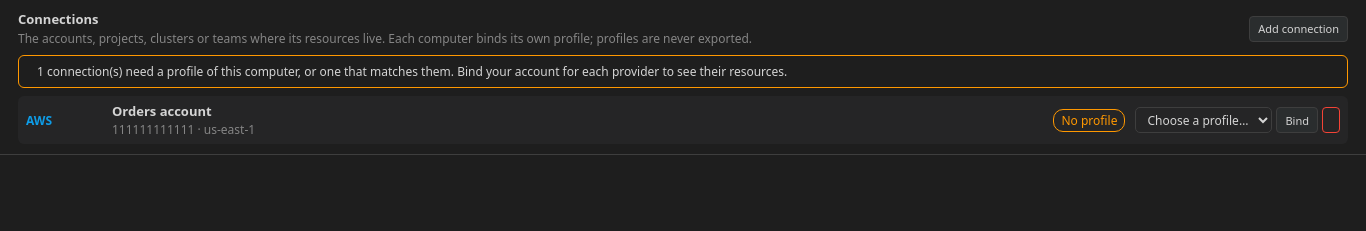
it: KUApp scopes › sends the revision it read and reloads on a conflict
Click the button "Add connection": click(1299, 28) [1249,16,1348,42]
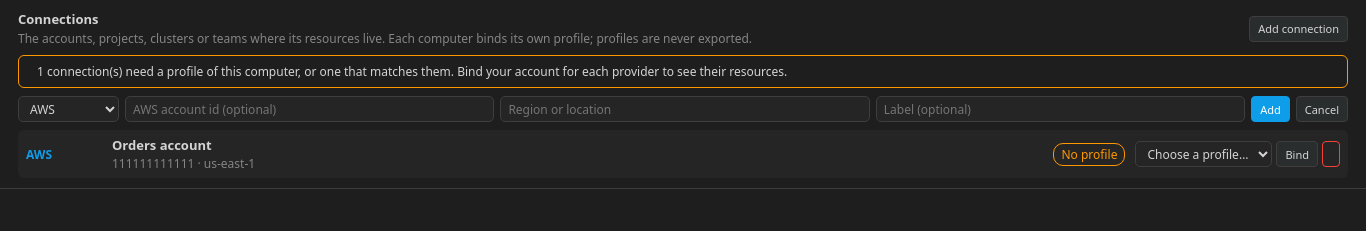
Select "Kubernetes" in the dropdown named "Provider": (68, 109) [18,96,119,122]
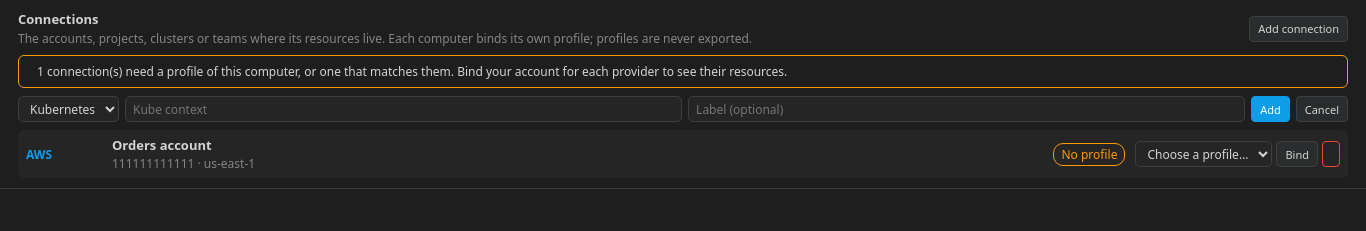
In the field with placeholder "Kube context": (404, 109) [125,96,682,122], type "eks-prod"
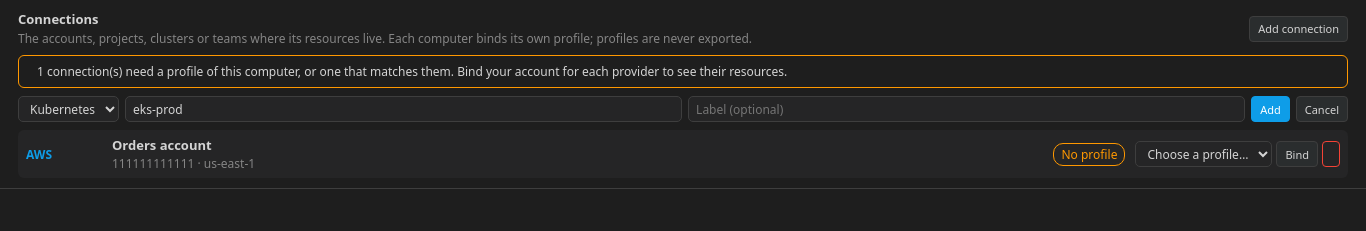
Submit the form with class "kuapp-scope-form", box [18,96,1348,122]
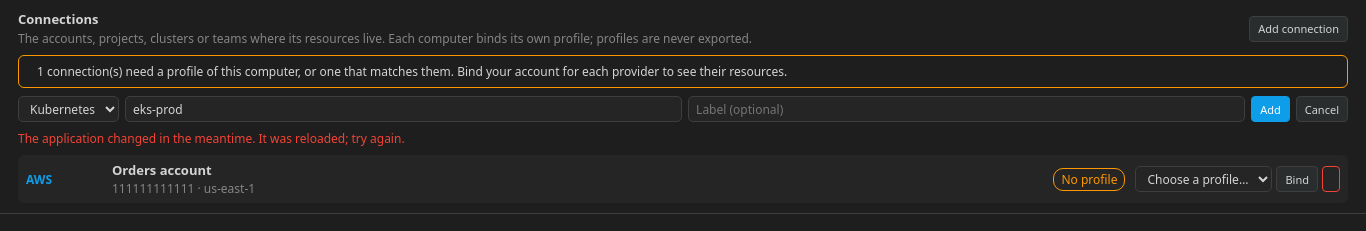
Now the text with class "kuapp-scopes-error" shows "changed in the meantime", box [18,130,405,147]
